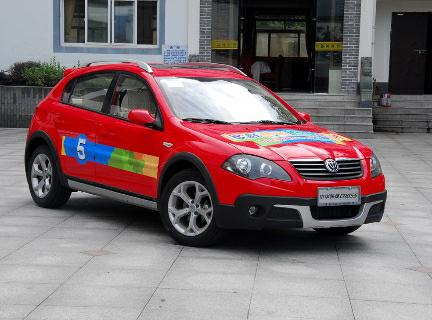中华-骏捷Cross: (21, 58, 393, 256)
